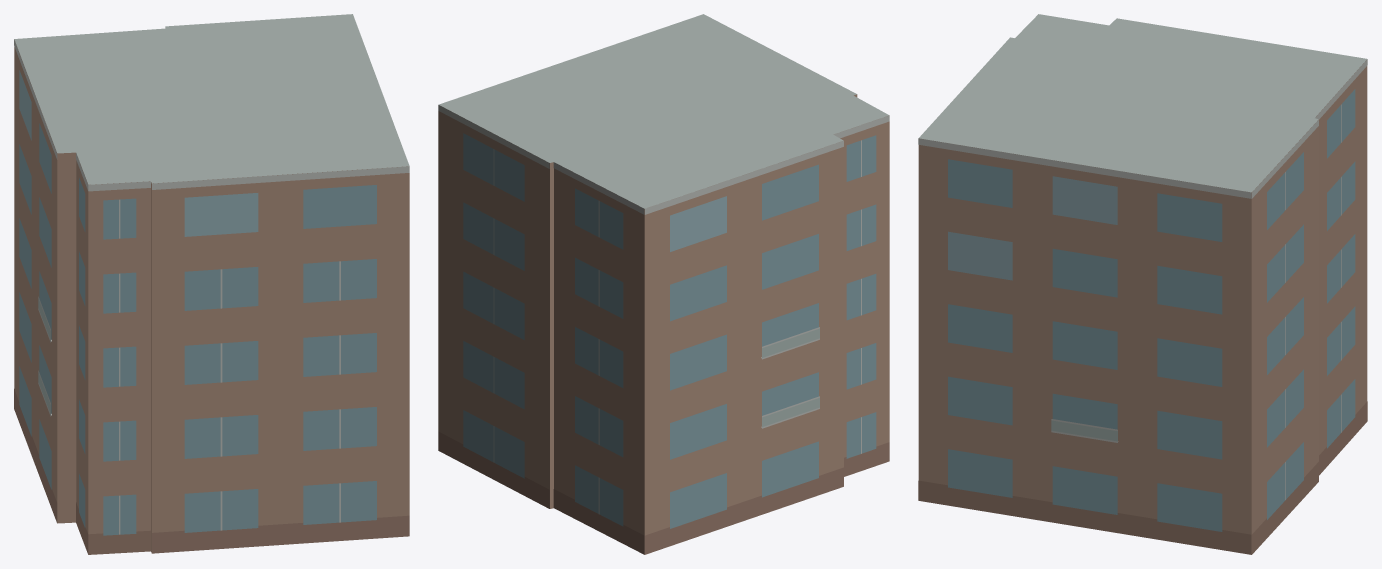
The model's file is survey-upis-32526112.glb.
3 renders of one model, left to right at view 1: azimuth 30°, elevation 25°; view 2: azimuth 150°, elevation 25°; view 3: azimuth 270°, elevation 25°, orthographic. The views are drawn at different scales.
Parts seen in each view (by area): view 1: survey-upis-32526112.tmp; view 2: survey-upis-32526112.tmp; view 3: survey-upis-32526112.tmp.
Part boxes in pixels (x1,y1,x2,y2): survey-upis-32526112.tmp: (14,14,409,554); survey-upis-32526112.tmp: (438,14,889,554); survey-upis-32526112.tmp: (918,14,1367,554).
Size of the model in its own units: 14.48 by 13.7 by 15.39.
